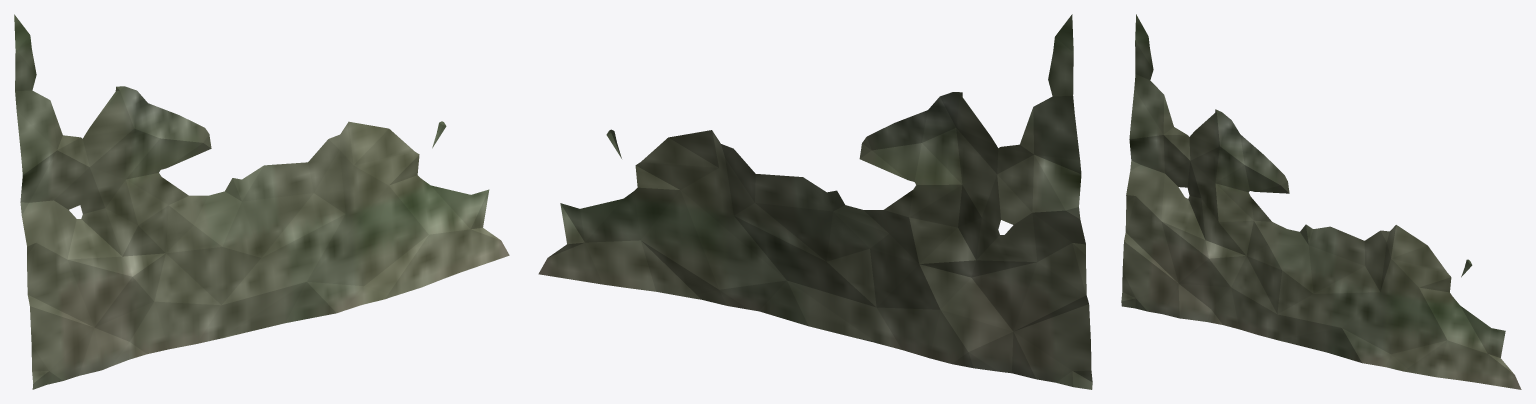
Rendered from Tile_+006_+002.obj.
3 renders of one model, left to right at view 1: azimuth 30°, elevation 25°; view 2: azimuth 150°, elevation 25°; view 3: azimuth 330°, elevation 25°, orthographic. The views are drawn at different scales.
Bounding box in the file's own units: 0.4298 × 0.3004 × 0.0285.
1 material, 1 textured.
